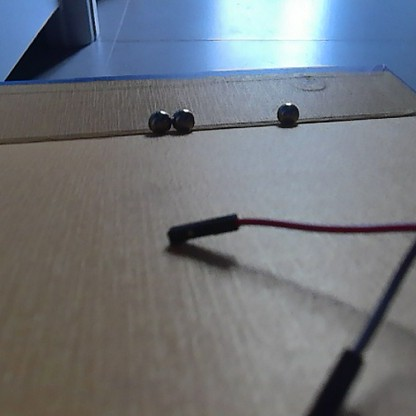ironball: (144, 106, 173, 139), (169, 105, 197, 135), (274, 99, 299, 129)
